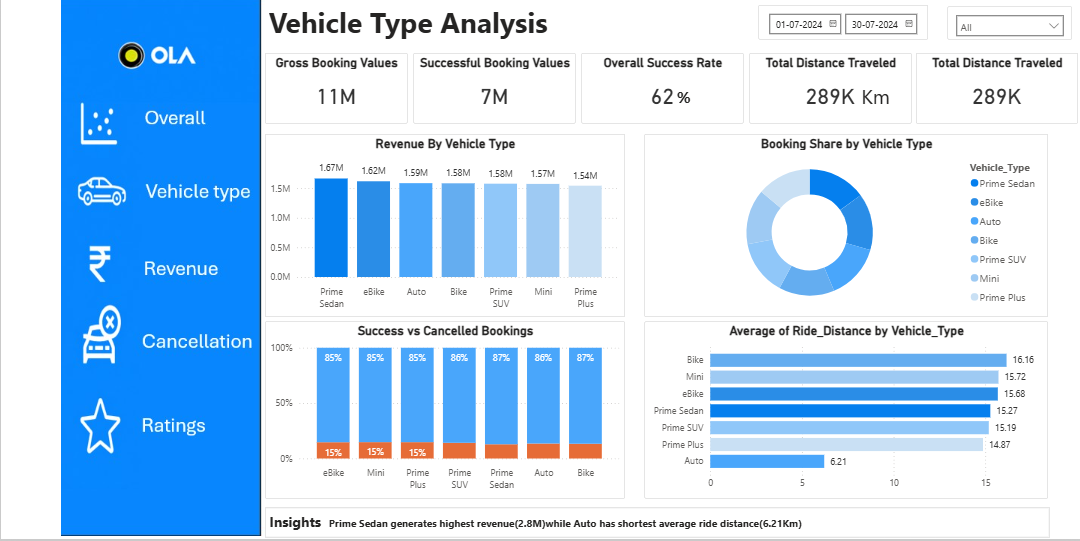

This screenshot's page, from the dashboard's own definition file:
{"tool":"powerbi","page":{"name":"Vehicle type","canvas":[1440,720],"ordinal":1},"visuals":[{"type":"actionButton","box":[82,402,264,130],"z":0},{"type":"actionButton","box":[82,314,264,90],"z":1000},{"type":"actionButton","box":[82,136,264,88],"z":2000},{"type":"actionButton","box":[82,536,264,130],"z":3000},{"type":"textbox","box":[351.9,0,413.5,69.2],"z":4000},{"type":"card","title":"Successful Booking Values","fields":{"Values":["Sheet1.Sum of Booking_Value for Success 2"]},"box":[550,72,216,94],"z":5000},{"type":"card","title":"Gross Booking Values","fields":{"Values":["Sum(Sheet1.Booking_Value)"]},"box":[352,72,190,94],"z":6000},{"type":"card","title":"Overall Success Rate","fields":{"Values":["July.Sum of Booking_Value for Success 2 divided by Sum of Booking_Value"]},"box":[774,72,216,94],"z":7000},{"type":"card","title":"Total Distance Traveled","fields":{"Values":["Sum(Sheet1.Ride_Distance)"]},"box":[998,72,216,94],"z":8000},{"type":"textbox","box":[896,110,38,52],"z":9000},{"type":"textbox","box":[1142,106,70,56],"z":10000},{"type":"slicer","fields":{"Values":["Sheet1.Date"]},"box":[1010,8,226,46],"z":11000},{"type":"clusteredColumnChart","title":"Revenue By Vehicle Type","fields":{"Category":["Sheet1.Vehicle_Type"],"Y":["Sum(Sheet1.Booking_Value)"]},"box":[352,180,480,244],"z":12000},{"type":"hundredPercentStackedColumnChart","title":"Success vs Cancelled Bookings","fields":{"Category":["Sheet1.Vehicle_Type"],"Y":["July.Sum of Booking_Value for Canceled by Customer","Sheet1.Sum of Booking_Value for Success"]},"box":[352,430,480,236],"z":13000},{"type":"donutChart","title":"Booking Share by Vehicle Type","fields":{"Category":["Sheet1.Vehicle_Type"],"Y":["Sum(July.Booking_Value)"]},"box":[858,180,538,244],"z":14000},{"type":"clusteredBarChart","fields":{"Y":["Avg(Sheet1.Ride_Distance)"],"Category":["Sheet1.Vehicle_Type"]},"box":[858,430,538,236],"z":15000},{"type":"card","title":"Total Distance Traveled","fields":{"Values":["Sum(Sheet1.Ride_Distance)"]},"box":[1220,72,216,94],"z":16000},{"type":"textbox","box":[352,678,1046,40],"z":17000},{"type":"slicer","fields":{"Values":["Sheet1.Vehicle_Type"]},"box":[1262,10,166,44],"z":18000}]}

Visuals, with their boxes in screenshot pixels (x1, y1, x2, y2), scaled from the page's 1440x720 canvas onto the 1080x541 screenshot:
actionButton: box=[62, 302, 260, 400]
actionButton: box=[62, 236, 260, 304]
actionButton: box=[62, 102, 260, 168]
actionButton: box=[62, 403, 260, 500]
textbox: box=[264, 0, 574, 52]
"Successful Booking Values" card: box=[412, 54, 574, 125]
"Gross Booking Values" card: box=[264, 54, 406, 125]
"Overall Success Rate" card: box=[580, 54, 742, 125]
"Total Distance Traveled" card: box=[748, 54, 910, 125]
textbox: box=[672, 83, 700, 122]
textbox: box=[856, 80, 909, 122]
slicer - Sheet1.Date: box=[758, 6, 927, 41]
"Revenue By Vehicle Type" clusteredColumnChart: box=[264, 135, 624, 319]
"Success vs Cancelled Bookings" hundredPercentStackedColumnChart: box=[264, 323, 624, 500]
"Booking Share by Vehicle Type" donutChart: box=[644, 135, 1047, 319]
clusteredBarChart - Avg(Sheet1.Ride_Distance) x Sheet1.Vehicle_Type: box=[644, 323, 1047, 500]
"Total Distance Traveled" card: box=[915, 54, 1077, 125]
textbox: box=[264, 509, 1048, 539]
slicer - Sheet1.Vehicle_Type: box=[946, 8, 1071, 41]
